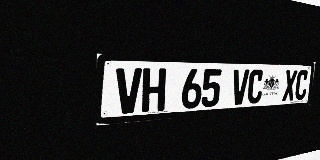5: (201, 69, 222, 108)
6: (181, 69, 203, 109)
C: (247, 69, 264, 104), (294, 70, 309, 100)
H: (141, 68, 166, 112)
V: (115, 68, 142, 114), (231, 69, 249, 105)
X: (282, 70, 297, 101)
